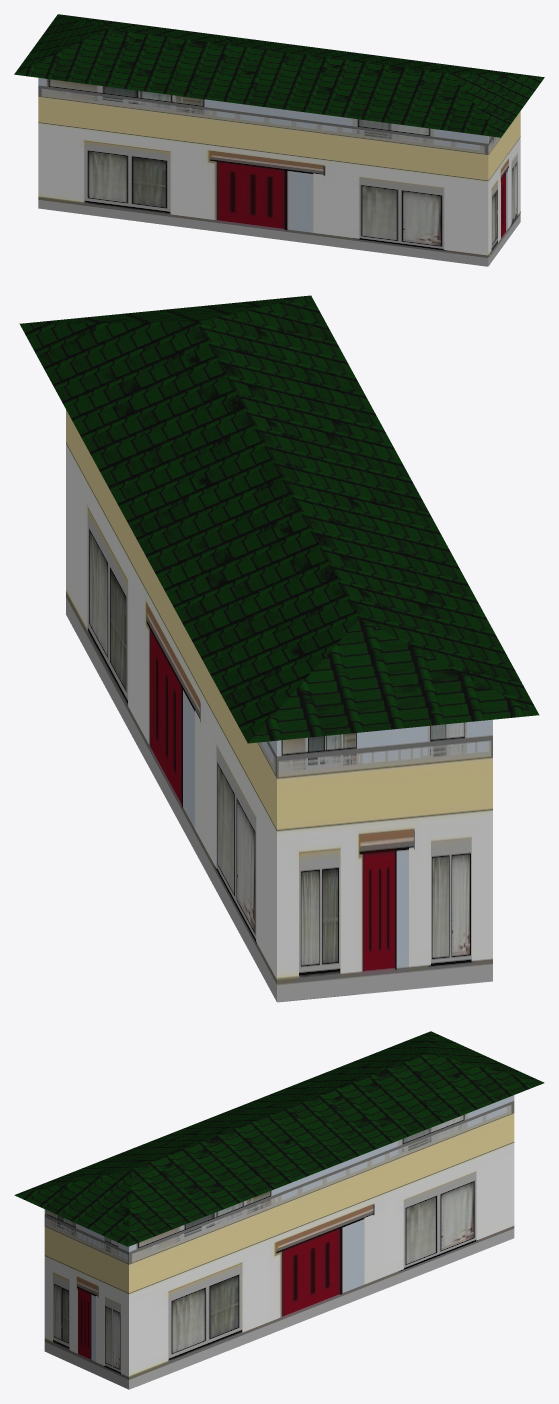
The picture shows the model from 3 angles, top to bottom: view 1: azimuth 30°, elevation 25°; view 2: azimuth 150°, elevation 25°; view 3: azimuth 270°, elevation 25°; orthographic projection. The views are drawn at different scales.
Visible parts, largest first — view 1: CityEngineMaterial_15_m, CityEngineMaterial_13_m; view 2: CityEngineMaterial_13_m, CityEngineMaterial_15_m; view 3: CityEngineMaterial_15_m, CityEngineMaterial_13_m.
Boxes of the visible parts, bbox=[...] form: CityEngineMaterial_15_m: bbox=[38, 78, 520, 266]; CityEngineMaterial_13_m: bbox=[14, 14, 544, 137]; CityEngineMaterial_13_m: bbox=[19, 295, 539, 743]; CityEngineMaterial_15_m: bbox=[66, 410, 492, 1002]; CityEngineMaterial_15_m: bbox=[44, 1095, 514, 1389]; CityEngineMaterial_13_m: bbox=[14, 1031, 544, 1246].
Size of the model in its own units: 22.07 by 8.75 by 22.95.
